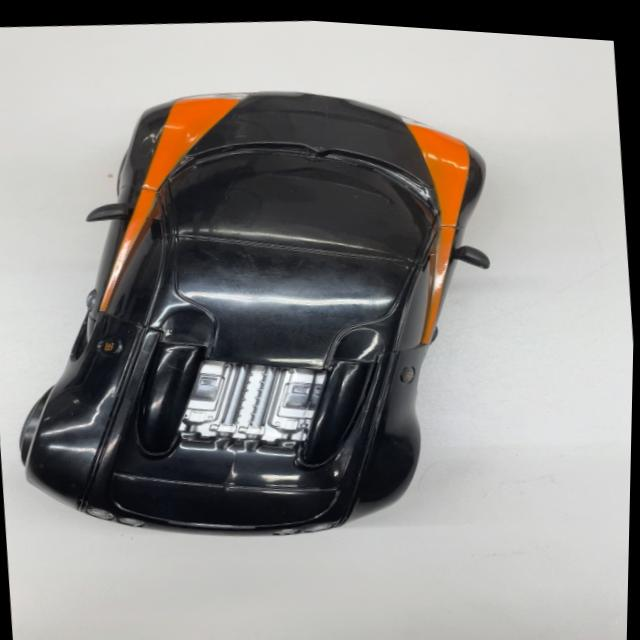vehicle_body: (0, 49, 530, 569)
